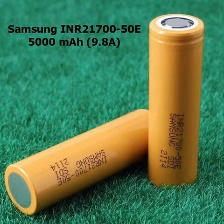battery: (2, 104, 166, 218), (146, 12, 205, 192)
